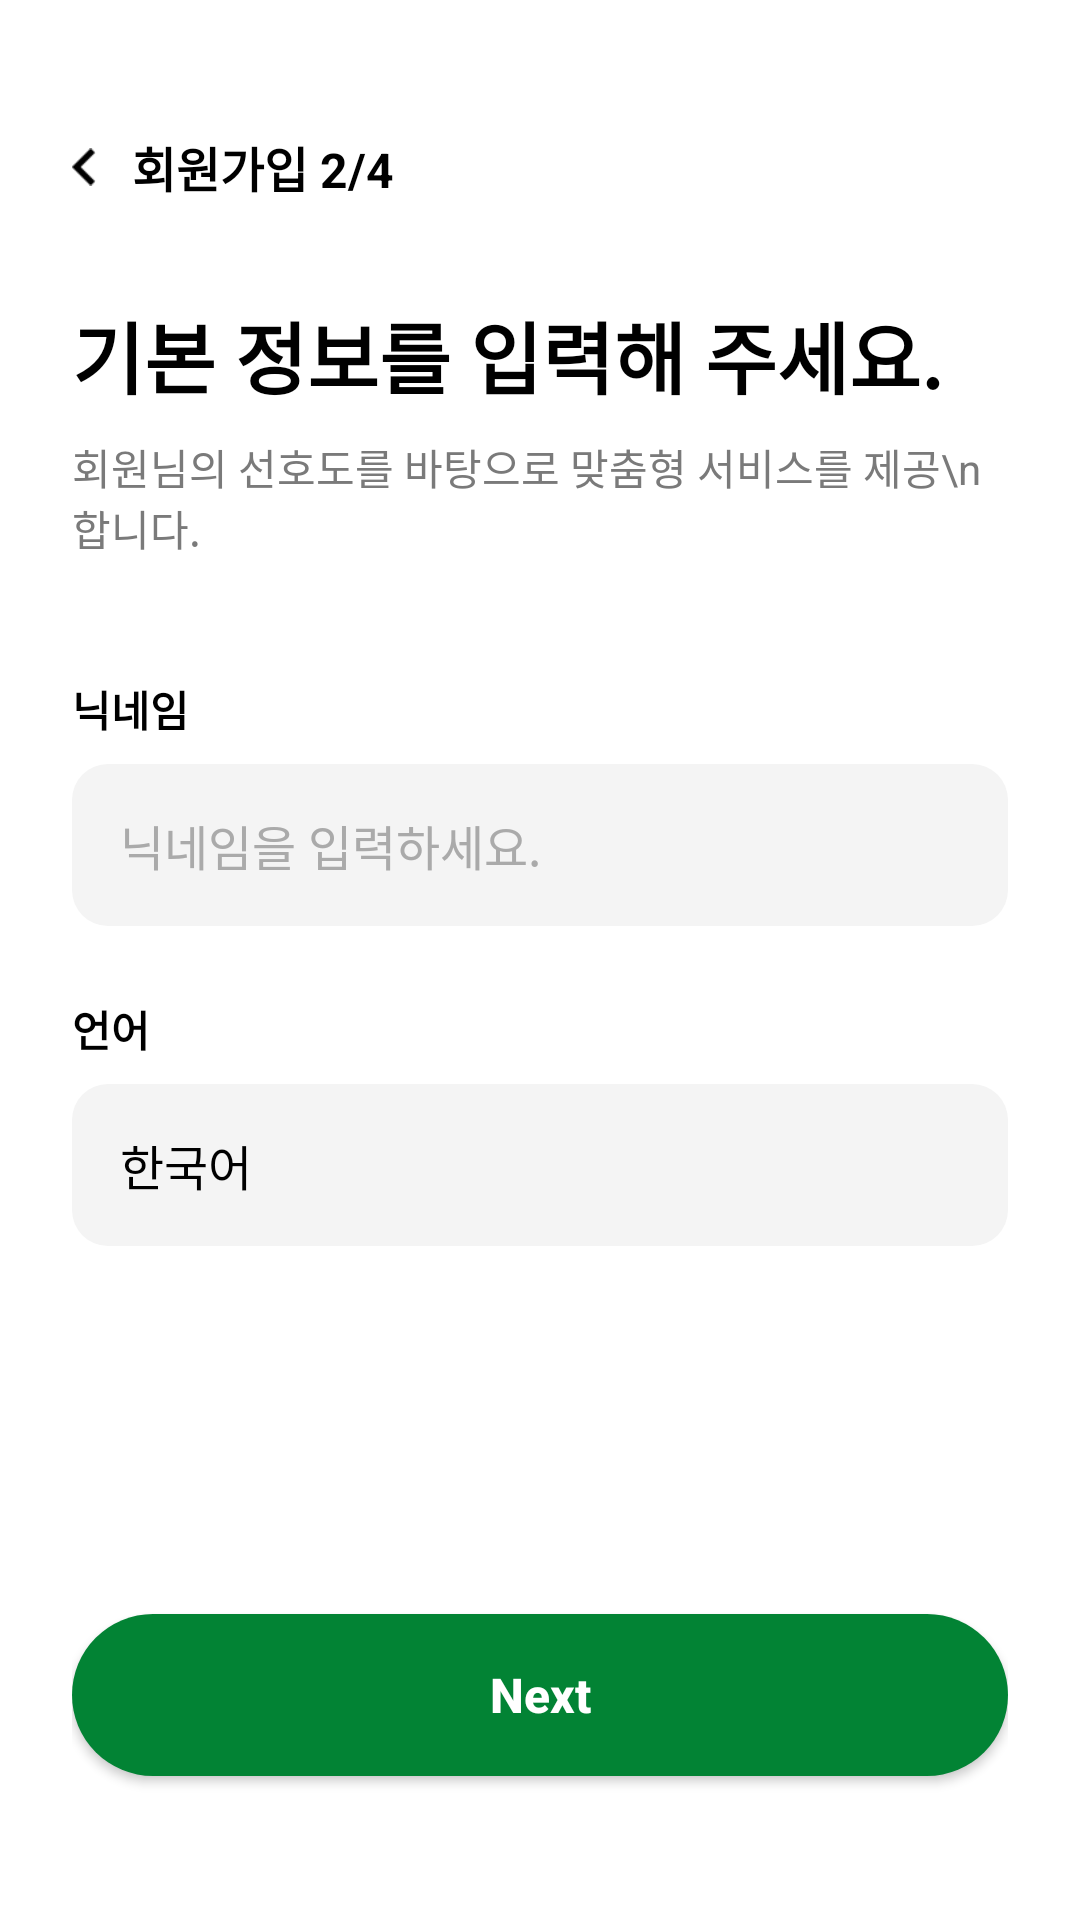

Screen size 1080x1920. Icon name, then its center in pixels as (x,y):
뒤로 가기: (83,167)
